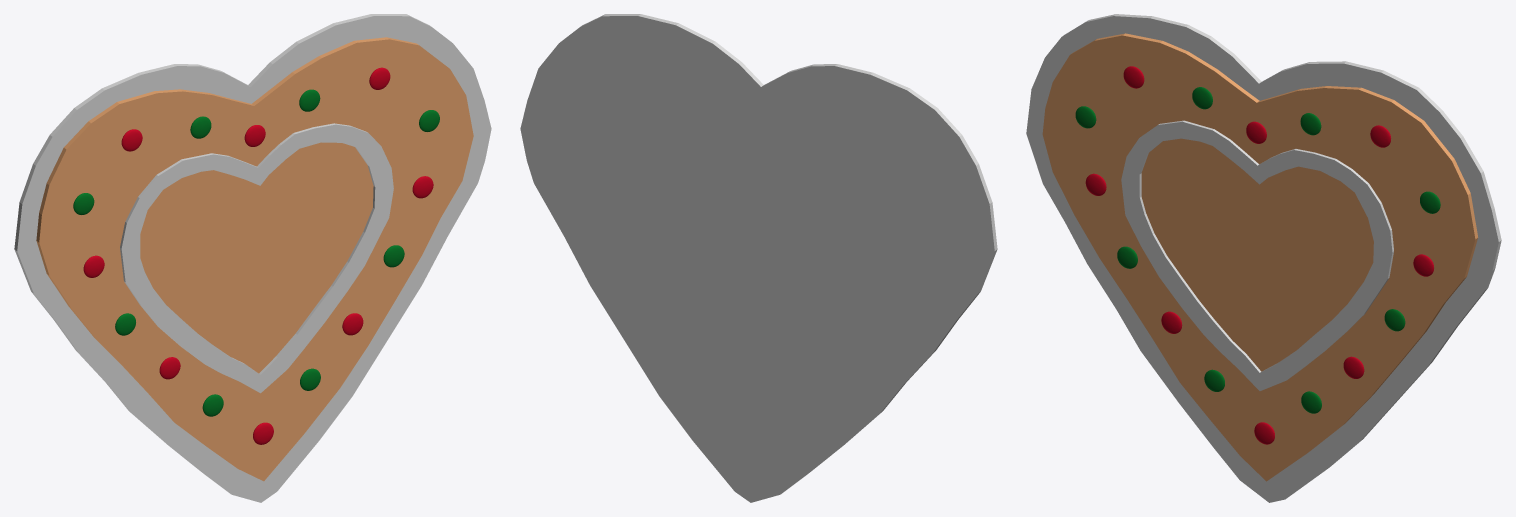
Rendered from Heart.glb.
The picture shows the model from 3 angles, left to right: view 1: azimuth 30°, elevation 25°; view 2: azimuth 150°, elevation 25°; view 3: azimuth 330°, elevation 25°; orthographic projection.
Visible parts, largest first — view 1: Heart; view 2: Heart; view 3: Heart.
Part boxes in pixels (left/top/right/bottom): Heart: left=14, top=14, right=491, bottom=502; Heart: left=520, top=14, right=997, bottom=502; Heart: left=1026, top=14, right=1501, bottom=502.
Bounding box in the file's own units: 0.4837 × 0.4476 × 0.0136.
